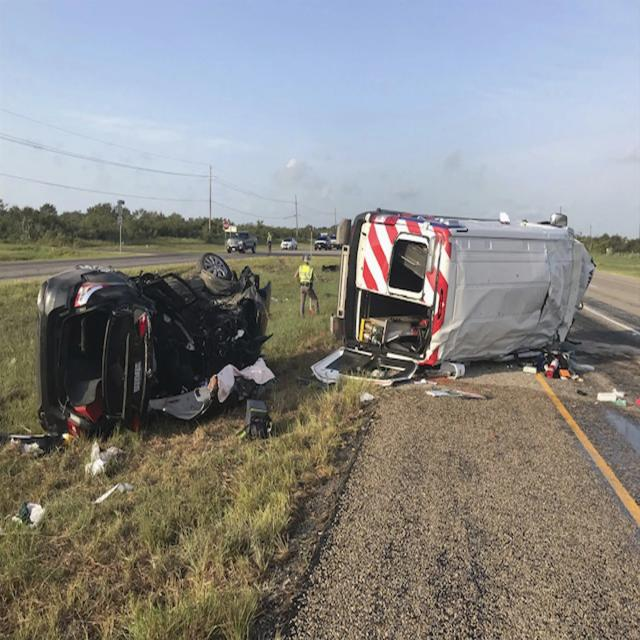car-serious-accident: (14, 193, 634, 465)
